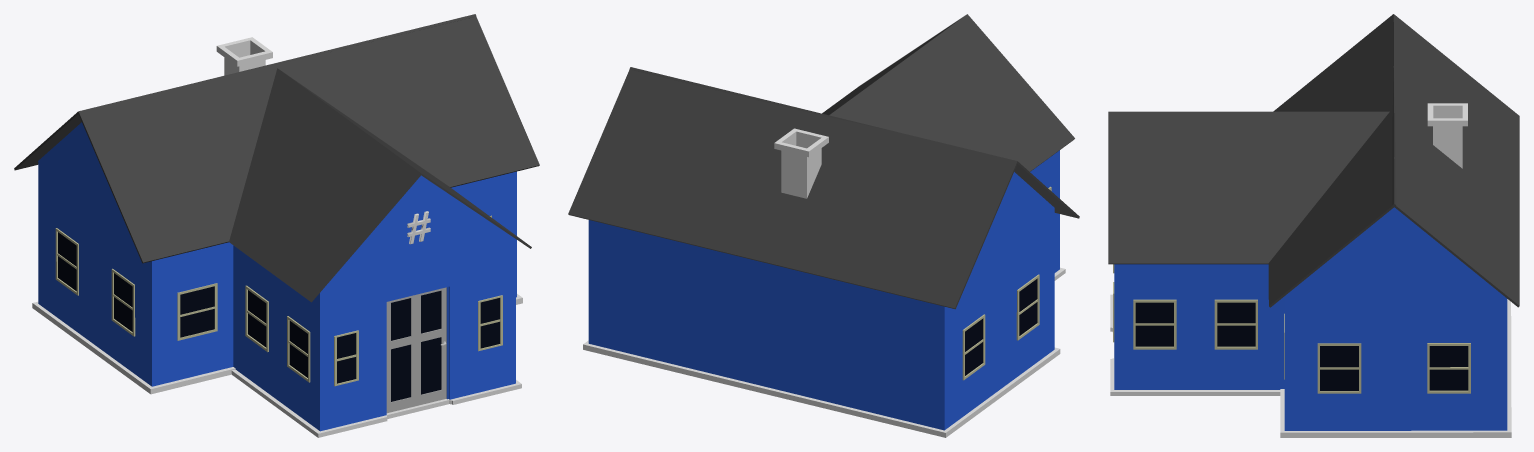
File: house_1.fbx
The picture shows the model from 3 angles, left to right: view 1: azimuth 30°, elevation 25°; view 2: azimuth 150°, elevation 25°; view 3: azimuth 270°, elevation 25°; orthographic projection. The views are drawn at different scales.
Visible parts, largest first — view 1: Plane.010; view 2: Plane.010; view 3: Plane.010.
Part boxes in pixels (bbox=[...]): Plane.010: bbox=[14, 14, 539, 437]; Plane.010: bbox=[568, 14, 1079, 437]; Plane.010: bbox=[1108, 14, 1519, 437].
Bounding box in the file's own units: 690 × 404 × 631.
